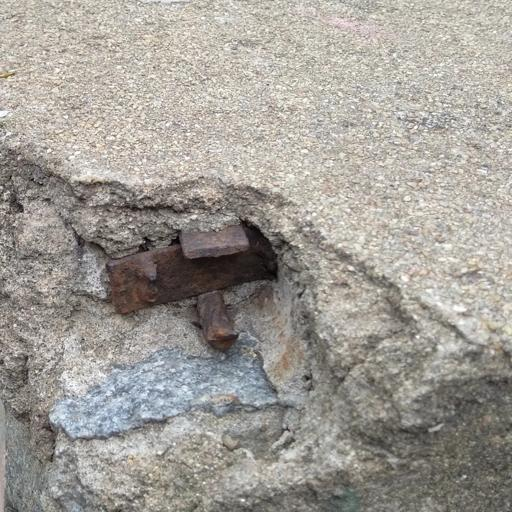spalling: (15, 156, 349, 466)
